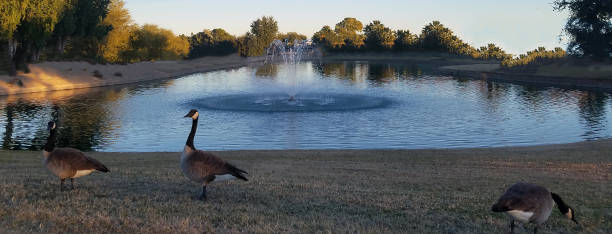goose: (176, 107, 251, 203), (39, 118, 111, 195), (489, 181, 584, 234)
